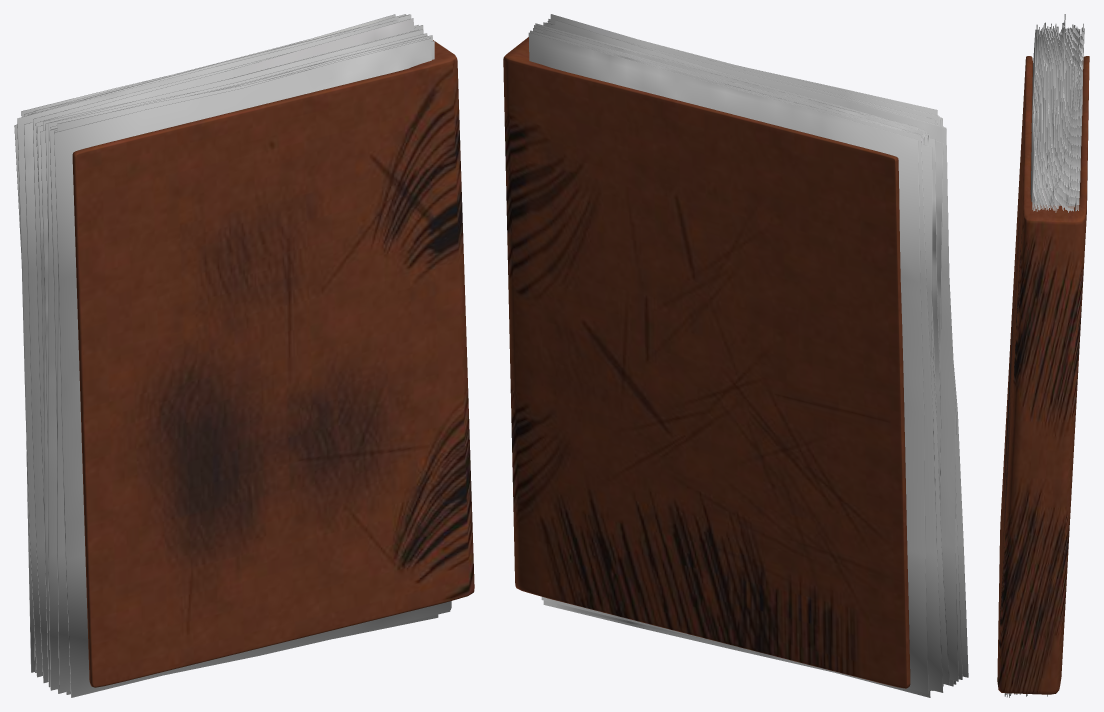
Rendered from livro fino vermelho.fbx.
3 renders of one model, left to right at view 1: azimuth 30°, elevation 25°; view 2: azimuth 150°, elevation 25°; view 3: azimuth 270°, elevation 25°, orthographic. The views are drawn at different scales.
Visible parts, largest first — view 1: livros fino_LOD0; view 2: livros fino_LOD0; view 3: livros fino_LOD0.
Part boxes in pixels (box(x1,y1,x2,y2)): livros fino_LOD0: box(14, 14, 474, 697); livros fino_LOD0: box(503, 14, 968, 697); livros fino_LOD0: box(997, 14, 1089, 697).
Size of what is drawn, in the model's own units: 30.06 by 39.35 by 6.3.
